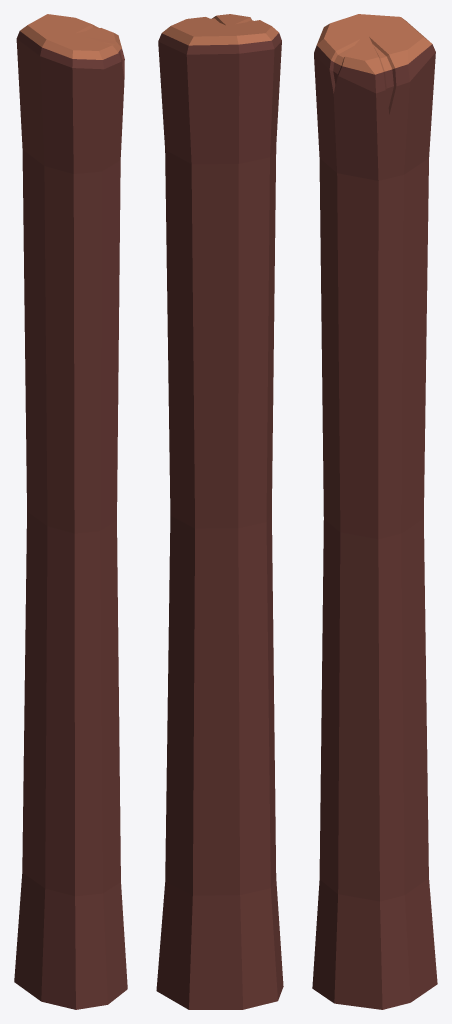
File: Wooden Pole Blunt 16.fbx
The picture shows the model from 3 angles, left to right: view 1: azimuth 90°, elevation 25°; view 2: azimuth 150°, elevation 25°; view 3: azimuth 330°, elevation 25°; orthographic projection.
Visible parts, largest first — view 1: Wooden Pole Blunt 16; view 2: Wooden Pole Blunt 16; view 3: Wooden Pole Blunt 16.
Boxes of the visible parts, bbox=[...] form: Wooden Pole Blunt 16: bbox=[14, 14, 127, 1009]; Wooden Pole Blunt 16: bbox=[156, 14, 283, 1009]; Wooden Pole Blunt 16: bbox=[312, 14, 437, 1009].
Bounding box in the file's own units: 30.25 × 274 × 29.49.
